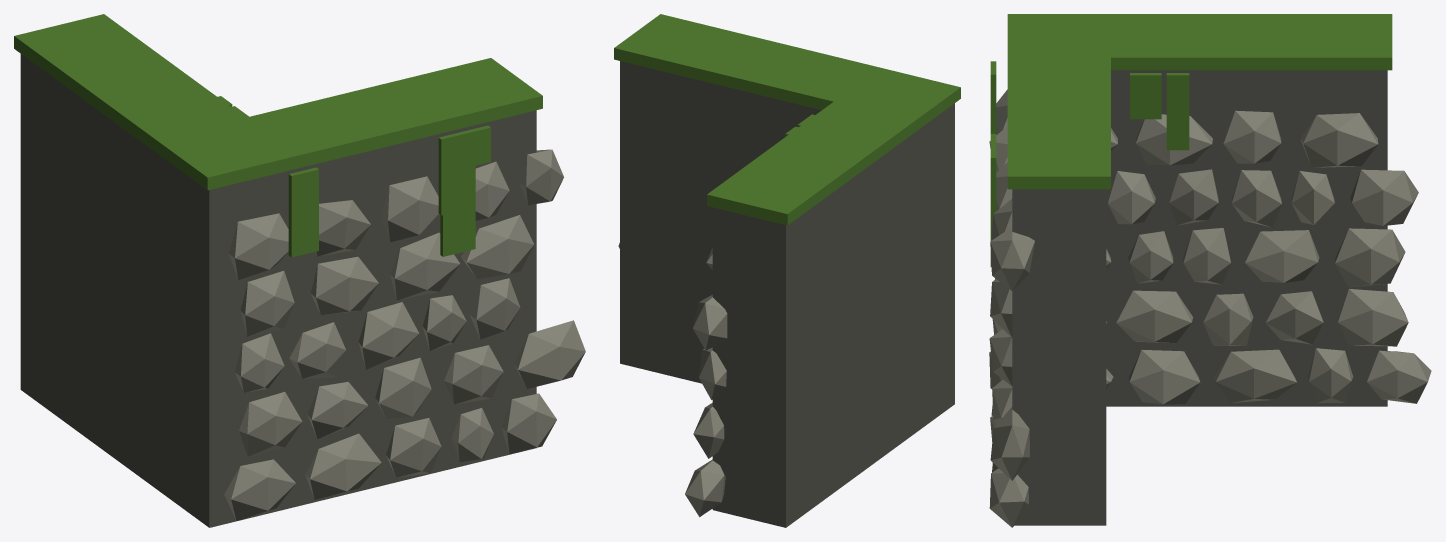
The model's file is rock_wall_corner.glb.
3 views of the same model, side by side, from view 1: azimuth 30°, elevation 25°; view 2: azimuth 150°, elevation 25°; view 3: azimuth 270°, elevation 25° (orthographic). The views are drawn at different scales.
Visible parts, largest first — view 1: stone_dark-col, stone, moss-col; view 2: stone_dark-col, moss-col, stone; view 3: stone_dark-col, stone, moss-col.
Boxes of the visible parts, x1=… form: stone_dark-col: x1=20, y1=54, x2=536, y2=527; stone: x1=224, y1=149, x2=585, y2=521; moss-col: x1=14, y1=14, x2=542, y2=257; stone_dark-col: x1=620, y1=61, x2=954, y2=527; moss-col: x1=614, y1=14, x2=960, y2=225; stone: x1=618, y1=242, x2=727, y2=517; stone_dark-col: x1=1012, y1=70, x2=1387, y2=525; stone: x1=989, y1=89, x2=1431, y2=527; moss-col: x1=990, y1=14, x2=1392, y2=267.
Size of the model in its own units: 4.59 by 4.12 by 4.71.
